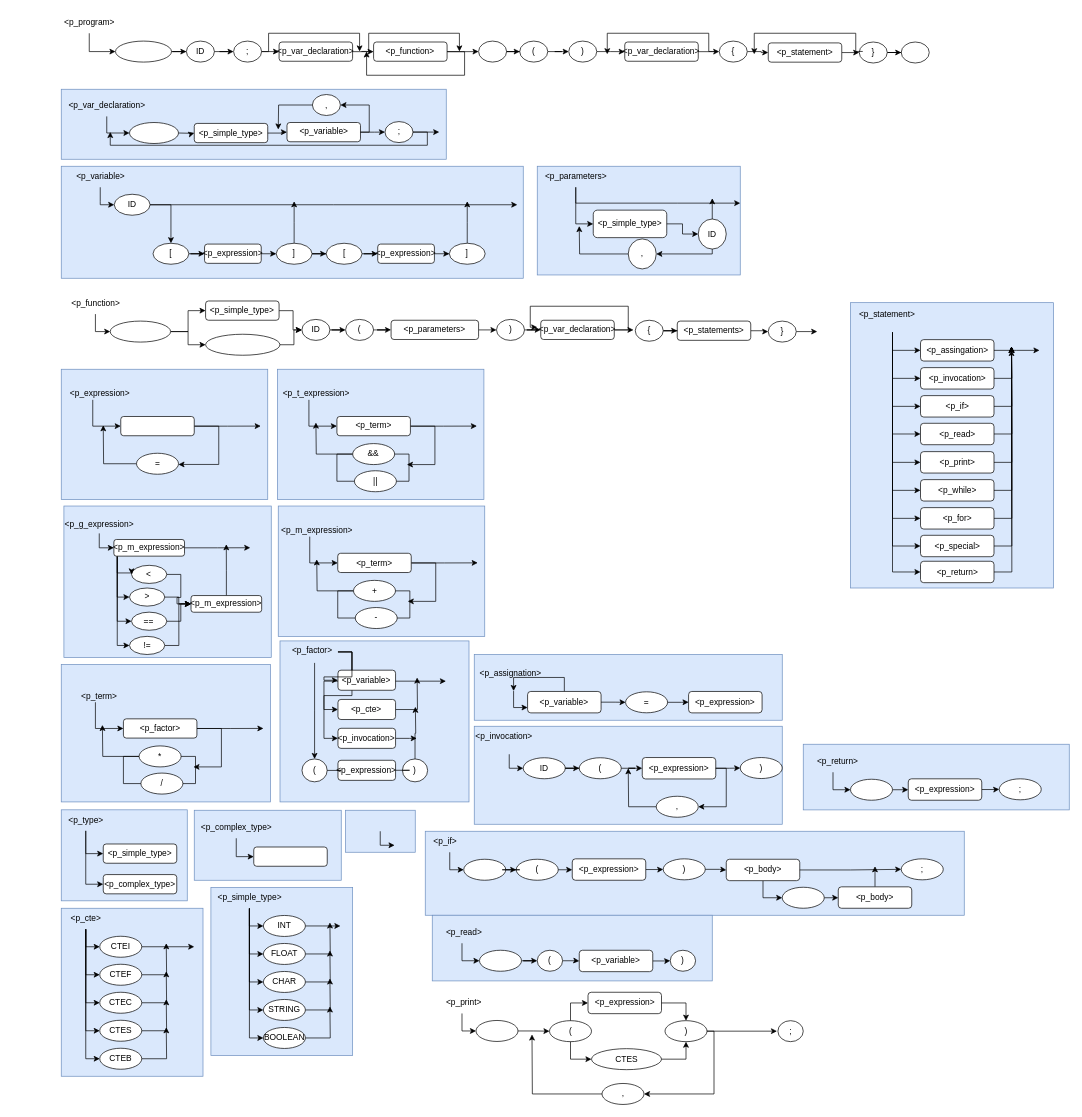
The diagram is 1082 pixels wide and 1117 high, and some of its shapes have lost their labels. Here are the shapes that lost their labels. From the top down, the centre of each, then its label:
At [143,51]: "PROGRAM".
At [492,51]: "MAIN".
At [915,52]: "END".
At [153,133]: "VARIABLE".
At [140,331]: "FUNCTION".
At [242,344]: "VOID".
At [157,426]: "<p_t_term>".
At [871,789]: "RETURN".
At [380,831]: "<p_empty>".
At [290,856]: "<p_vector>".
At [484,869]: "if".
At [803,897]: "ELSE".
At [500,960]: "READ".
At [496,1030]: "PRINT".
